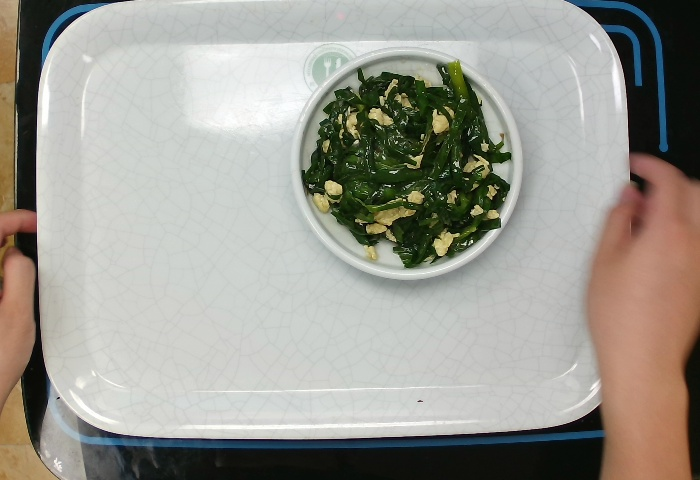JYsf-Xiao_Yuan_Pan: (286, 44, 527, 283)
